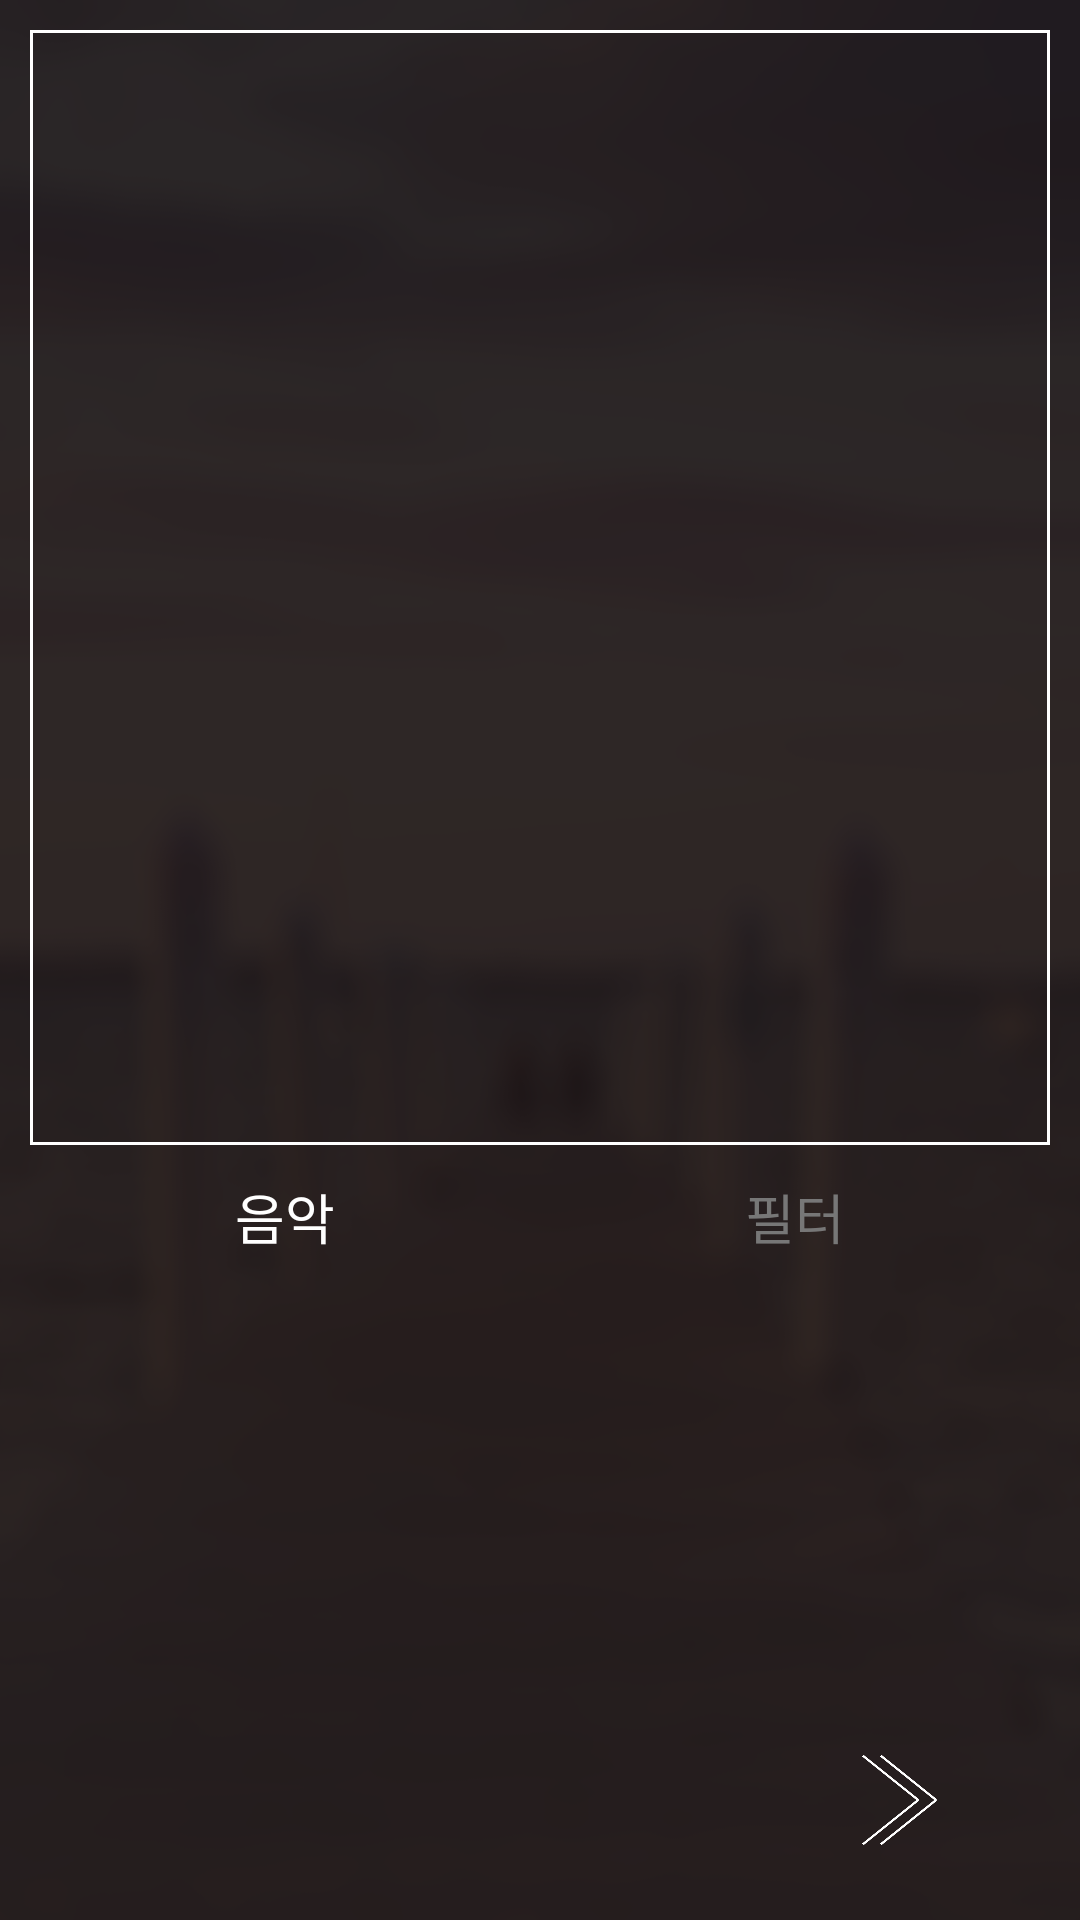

Locate icon controls on the screen. Image size 1080px×1920px, boxes as rect(x1, y1, x2, y2).
right: rect(862, 1755, 937, 1845)
